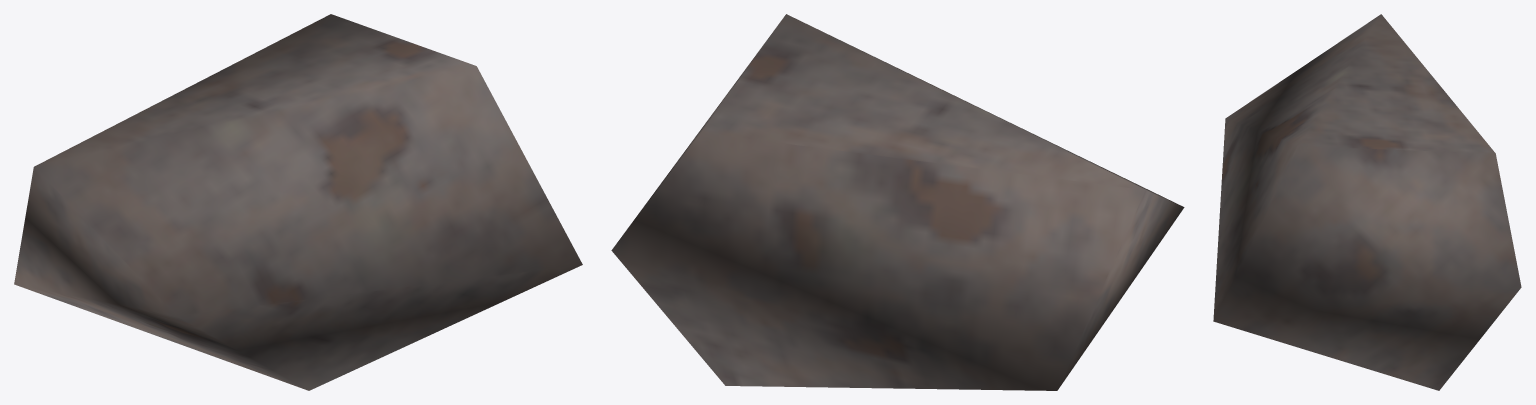
Rendered from SM_Pebble3.fbx.
3 renders of one model, left to right at view 1: azimuth 30°, elevation 25°; view 2: azimuth 150°, elevation 25°; view 3: azimuth 270°, elevation 25°, orthographic. The views are drawn at different scales.
Parts seen in each view (by area): view 1: SM_Pebble3_LOD0; view 2: SM_Pebble3_LOD0; view 3: SM_Pebble3_LOD0.
Part boxes in pixels (bbox=[...]): SM_Pebble3_LOD0: bbox=[14, 14, 582, 390]; SM_Pebble3_LOD0: bbox=[611, 14, 1184, 390]; SM_Pebble3_LOD0: bbox=[1213, 14, 1521, 390].
Bounding box in the file's own units: 6.92 × 4.75 × 4.32.
1 material, 1 textured.
